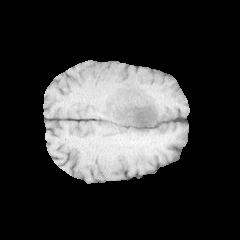glioma: (100, 84, 173, 136)
